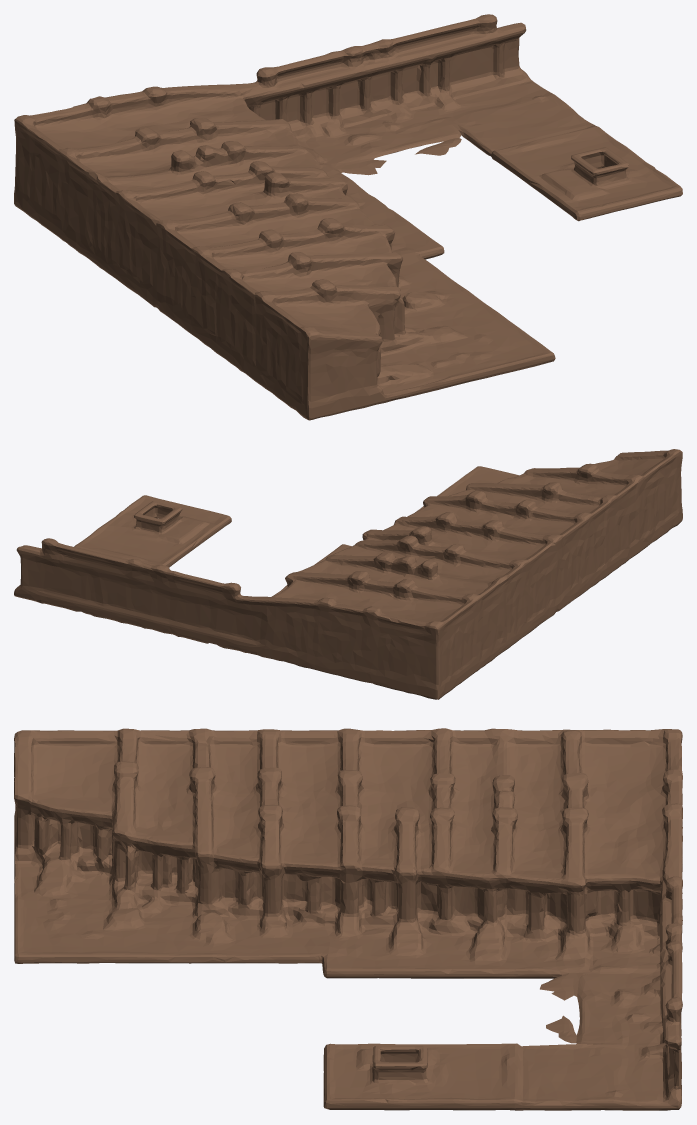
The model's file is Library Buildings.glb.
3 views of the same model, one above another, from view 1: azimuth 30°, elevation 25°; view 2: azimuth 150°, elevation 25°; view 3: azimuth 270°, elevation 25° (orthographic). The views are drawn at different scales.
Parts seen in each view (by area): view 1: tmp3m_iwmn2.ply; view 2: tmp3m_iwmn2.ply; view 3: tmp3m_iwmn2.ply.
Part boxes in pixels (left/top/right/bottom): tmp3m_iwmn2.ply: left=14, top=14, right=682, bottom=420; tmp3m_iwmn2.ply: left=14, top=449, right=682, bottom=699; tmp3m_iwmn2.ply: left=14, top=728, right=682, bottom=1110.
Size of the model in its own units: 1.96 by 0.33 by 1.96.
